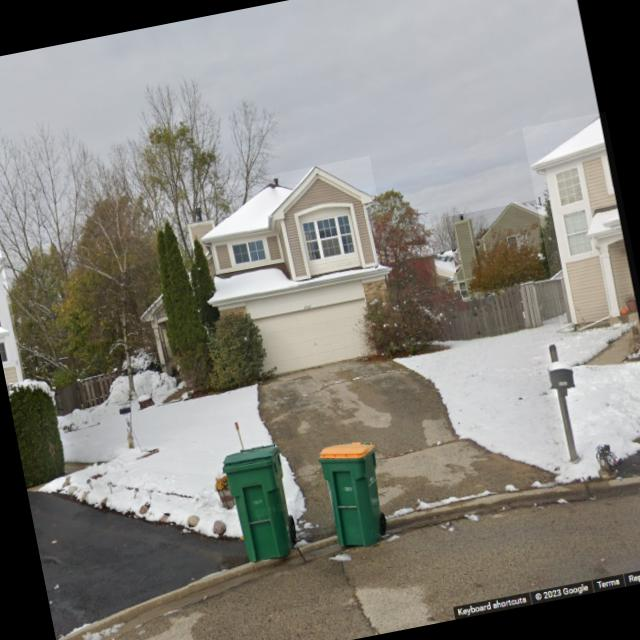House: (118, 156, 408, 398), (522, 112, 640, 336), (446, 198, 562, 296), (0, 231, 26, 385)
